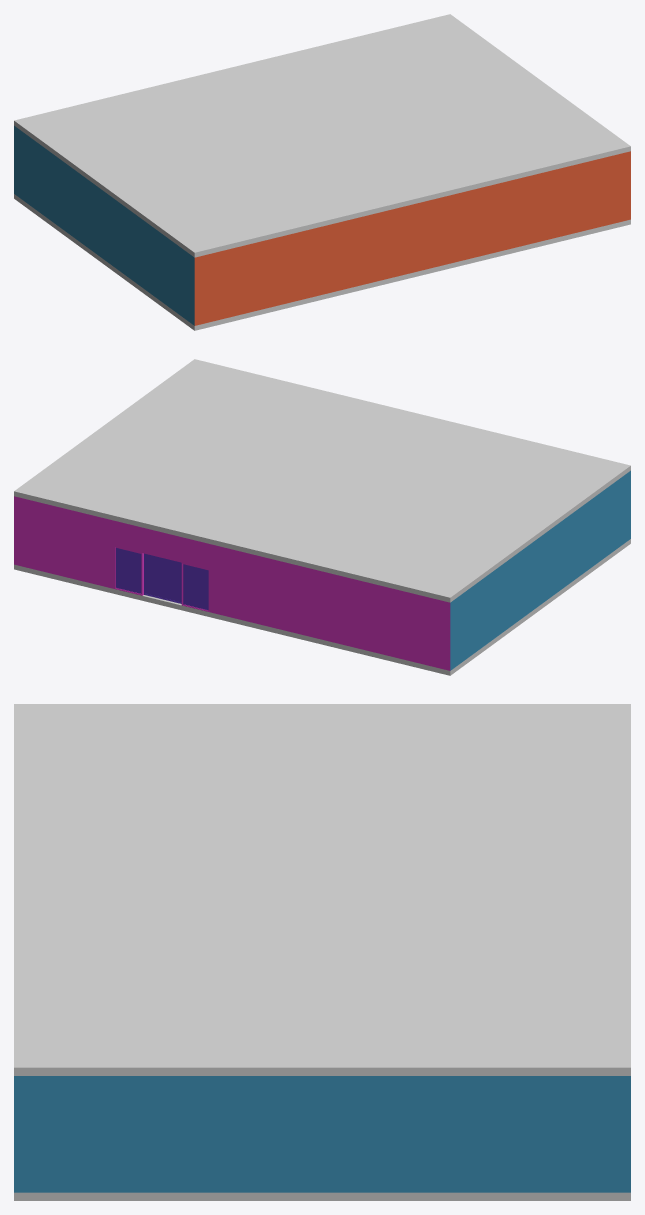
File: Level02.FBX
The picture shows the model from 3 angles, top to bottom: view 1: azimuth 30°, elevation 25°; view 2: azimuth 150°, elevation 25°; view 3: azimuth 270°, elevation 25°; orthographic projection. The views are drawn at different scales.
Parts seen in each view (by area): view 1: Box001, Object008, Object009, Box002; view 2: Box001, Object010, Object009, Box002, Object004, Object002, Glass001, Glass002; view 3: Box001, Object007, Box002.
Boxes of the visible parts, x1=… form: Box001: x1=14, y1=14, x2=630, y2=257; Object008: x1=194, y1=151, x2=630, y2=325; Object009: x1=14, y1=125, x2=194, y2=325; Box002: x1=14, y1=194, x2=630, y2=330; Box001: x1=14, y1=359, x2=630, y2=602; Object010: x1=14, y1=496, x2=450, y2=670; Object009: x1=450, y1=470, x2=630, y2=670; Box002: x1=14, y1=539, x2=630, y2=675; Object004: x1=183, y1=564, x2=208, y2=610; Object002: x1=116, y1=548, x2=141, y2=593; Glass001: x1=145, y1=554, x2=162, y2=597; Glass002: x1=165, y1=558, x2=181, y2=602; Box001: x1=14, y1=704, x2=630, y2=1075; Object007: x1=14, y1=1076, x2=630, y2=1192; Box002: x1=14, y1=1192, x2=630, y2=1200.
Bounding box in the file's own units: 3340 × 571 × 2395.
